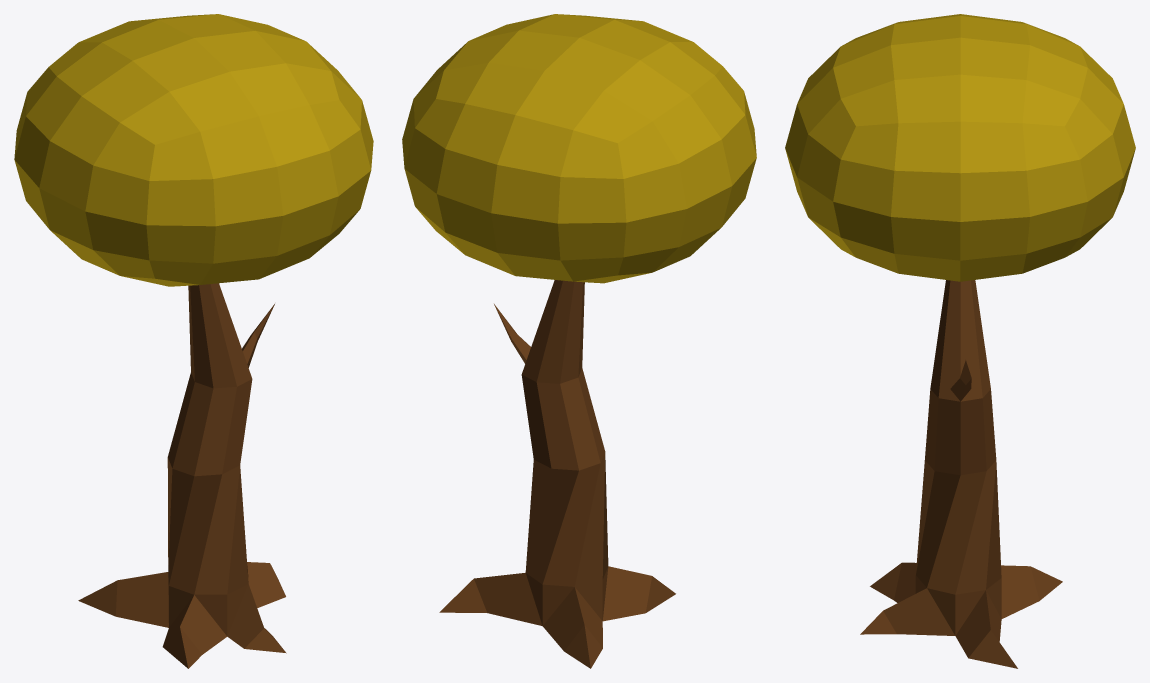
The model's file is tree_4.fbx.
3 views of the same model, side by side, from view 1: azimuth 30°, elevation 25°; view 2: azimuth 150°, elevation 25°; view 3: azimuth 270°, elevation 25° (orthographic).
Parts seen in each view (by area): view 1: Cube.001, Cube; view 2: Cube.001, Cube; view 3: Cube.001, Cube.
Boxes of the visible parts, left/top/right/bottom form: Cube.001: left=14, top=14, right=373, bottom=286; Cube: left=78, top=283, right=286, bottom=668; Cube.001: left=402, top=14, right=756, bottom=283; Cube: left=439, top=280, right=675, bottom=668; Cube.001: left=785, top=14, right=1135, bottom=281; Cube: left=860, top=280, right=1062, bottom=668.
Size of the model in its own units: 601 by 1091 by 601.
